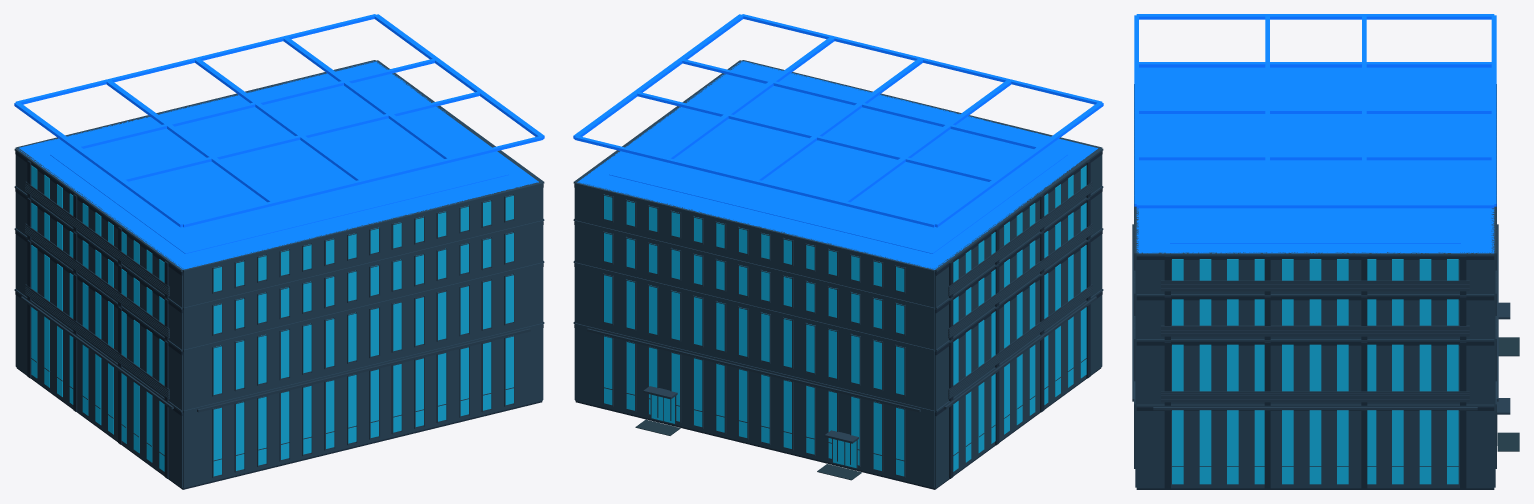
The picture shows the model from 3 angles, left to right: view 1: azimuth 30°, elevation 25°; view 2: azimuth 150°, elevation 25°; view 3: azimuth 270°, elevation 25°; orthographic projection. The views are drawn at different scales.
Visible parts, largest first — view 1: Campus_C1_RoofGarden_Garden, Campus_C1_F01_Envelope_White, Campus_C1_F02_Envelope_White, Campus_C1_F04_Envelope_White, Campus_C1_F03_Envelope_White, Campus_C1_RF_Structure_White, Campus_C1_RF_Structure_Concrete, Campus_C1_F01_Glazing_Glass, Campus_C1_F02_Glazing_Glass, Campus_C1_F03_Glazing_Glass, Campus_C1_F04_Glazing_Glass, Campus_C1_F01_Glazing_Frame (+14 smaller); view 2: Campus_C1_RoofGarden_Garden, Campus_C1_F01_Envelope_White, Campus_C1_F02_Envelope_White, Campus_C1_F04_Envelope_White, Campus_C1_F03_Envelope_White, Campus_C1_RF_Structure_Concrete, Campus_C1_RF_Structure_White, Campus_C1_F01_Glazing_Glass, Campus_C1_F02_Glazing_Glass, Campus_C1_F03_Glazing_Glass, Campus_C1_F04_Glazing_Glass, Campus_C1_F01_Glazing_Frame (+17 smaller); view 3: Campus_C1_RoofGarden_Garden, Campus_C1_F01_Envelope_White, Campus_C1_RF_Structure_Concrete, Campus_C1_RF_Structure_White, Campus_C1_F02_Envelope_White, Campus_C1_F01_Glazing_Glass, Campus_C1_F03_Envelope_White, Campus_C1_F04_Envelope_White, Campus_C1_F02_Glazing_Glass, Campus_C1_F02_Envelope_Frame, Campus_C1_F04_Envelope_Frame, Campus_C1_F03_Envelope_Frame (+12 smaller).
Boxes of the visible parts, <box> form: Campus_C1_RoofGarden_Garden: <box>50,77,508,253</box>; Campus_C1_F01_Envelope_White: <box>14,289,544,488</box>; Campus_C1_F02_Envelope_White: <box>14,228,544,410</box>; Campus_C1_F04_Envelope_White: <box>14,60,544,307</box>; Campus_C1_F03_Envelope_White: <box>14,186,544,349</box>; Campus_C1_RF_Structure_White: <box>14,14,544,227</box>; Campus_C1_RF_Structure_Concrete: <box>18,61,538,269</box>; Campus_C1_F01_Glazing_Glass: <box>31,307,513,476</box>; Campus_C1_F02_Glazing_Glass: <box>31,245,513,394</box>; Campus_C1_F03_Glazing_Glass: <box>31,203,513,334</box>; Campus_C1_F04_Glazing_Glass: <box>31,165,513,291</box>; Campus_C1_F01_Glazing_Frame: <box>31,335,514,477</box>; Campus_C1_RoofGarden_Garden: <box>609,78,1067,253</box>; Campus_C1_F01_Envelope_White: <box>573,289,1103,488</box>; Campus_C1_F02_Envelope_White: <box>573,228,1103,410</box>; Campus_C1_F04_Envelope_White: <box>573,60,1103,307</box>; Campus_C1_F03_Envelope_White: <box>573,186,1103,349</box>; Campus_C1_RF_Structure_Concrete: <box>577,61,1097,269</box>; Campus_C1_RF_Structure_White: <box>573,14,1103,227</box>; Campus_C1_F01_Glazing_Glass: <box>604,307,1086,476</box>; Campus_C1_F02_Glazing_Glass: <box>604,245,1086,394</box>; Campus_C1_F03_Glazing_Glass: <box>604,203,1086,334</box>; Campus_C1_F04_Glazing_Glass: <box>604,165,1086,291</box>; Campus_C1_F01_Glazing_Frame: <box>603,335,1086,477</box>; Campus_C1_RoofGarden_Garden: <box>1170,73,1460,243</box>; Campus_C1_F01_Envelope_White: <box>1134,381,1496,488</box>; Campus_C1_RF_Structure_Concrete: <box>1136,67,1494,253</box>; Campus_C1_RF_Structure_White: <box>1134,14,1496,208</box>; Campus_C1_F02_Envelope_White: <box>1134,316,1496,404</box>; Campus_C1_F01_Glazing_Glass: <box>1172,410,1458,484</box>; Campus_C1_F03_Envelope_White: <box>1134,270,1496,339</box>; Campus_C1_F04_Envelope_White: <box>1134,206,1496,293</box>; Campus_C1_F02_Glazing_Glass: <box>1172,344,1458,391</box>; Campus_C1_F02_Envelope_Frame: <box>1161,391,1469,402</box>; Campus_C1_F04_Envelope_Frame: <box>1161,280,1469,291</box>; Campus_C1_F03_Envelope_Frame: <box>1161,325,1469,336</box>.
Bounding box in the file's own units: 41 × 28.42 × 34.9.
